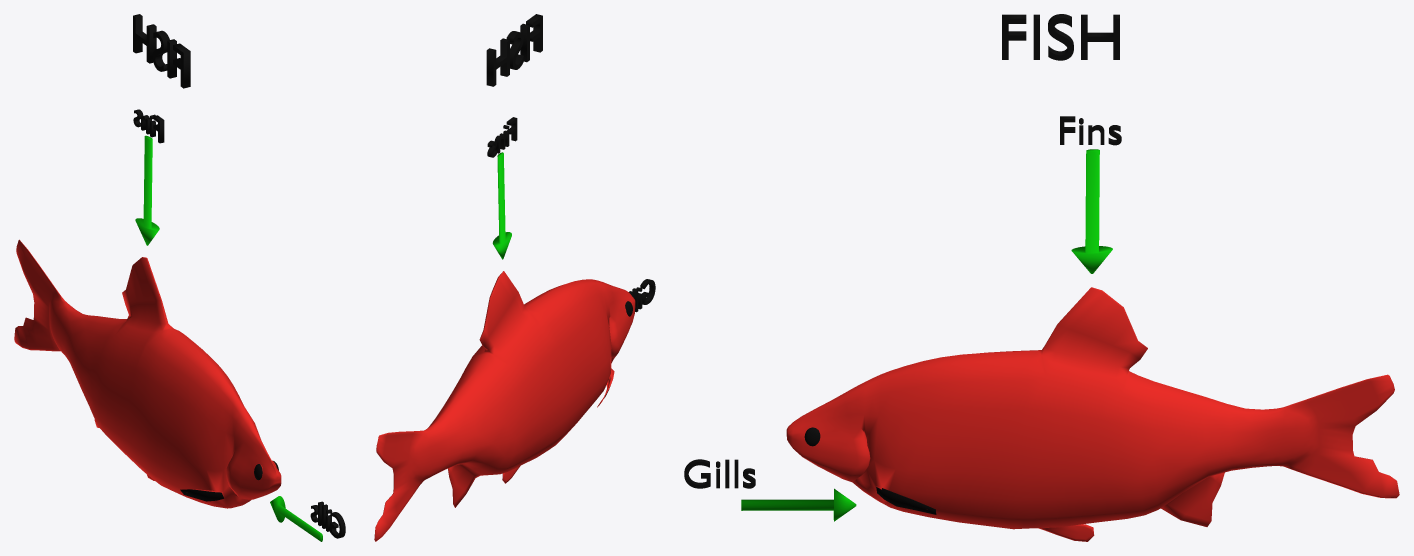
Rendered from Fish.gltf.
3 views of the same model, side by side, from view 1: azimuth 30°, elevation 25°; view 2: azimuth 150°, elevation 25°; view 3: azimuth 270°, elevation 25° (orthographic). The views are drawn at different scales.
Parts seen in each view (by area): view 1: Rudd-Fish, Text.002, Cylinder.016, Text, Cylinder.000, Text.001; view 2: Rudd-Fish, Text.002, Cylinder.016, Text.001, Text; view 3: Rudd-Fish, Text.002, Cylinder.016, Cylinder.000, Text, Text.001.
Boxes of the visible parts, <box> form: Rudd-Fish: <box>14,239,281,508</box>; Text.002: <box>133,14,190,88</box>; Cylinder.016: <box>135,135,159,245</box>; Text: <box>310,501,345,538</box>; Cylinder.000: <box>270,496,322,541</box>; Text.001: <box>133,109,164,143</box>; Rudd-Fish: <box>374,271,635,541</box>; Text.002: <box>486,14,542,86</box>; Cylinder.016: <box>492,152,511,259</box>; Text.001: <box>487,117,517,157</box>; Text: <box>629,279,655,312</box>; Rudd-Fish: <box>786,287,1399,541</box>; Text.002: <box>1002,14,1119,60</box>; Cylinder.016: <box>1071,149,1112,273</box>; Cylinder.000: <box>741,488,856,521</box>; Text: <box>684,459,755,488</box>; Text.001: <box>1060,116,1121,145</box>.
Bounding box in the file's own units: 1.01 × 6.37 × 7.84.
